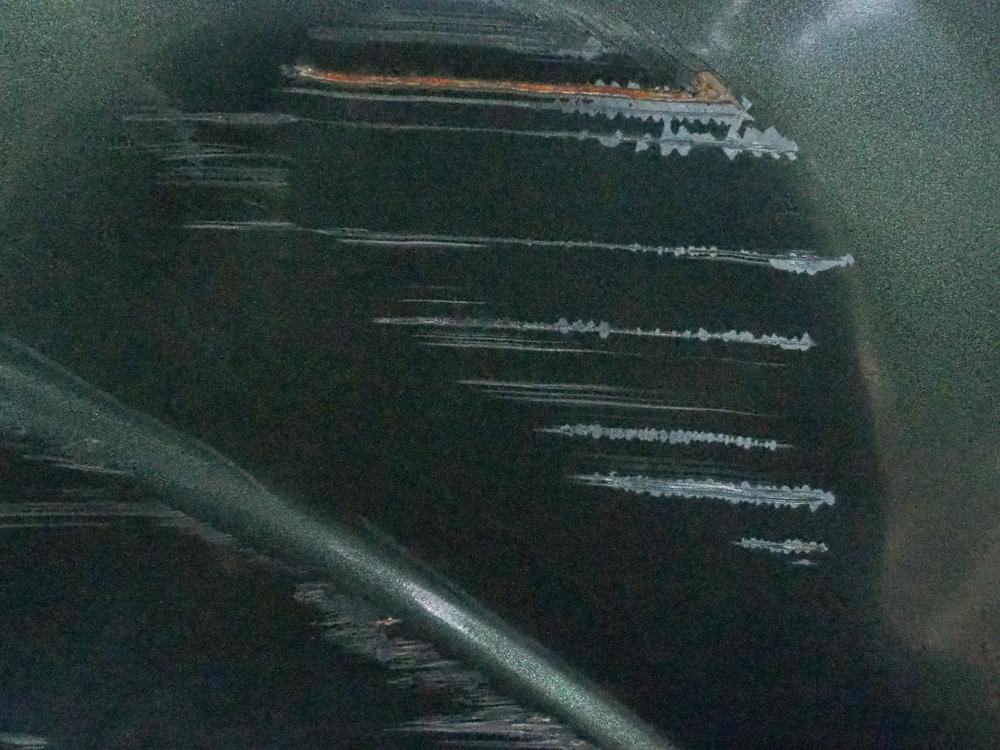scratch: (125, 0, 880, 579), (0, 390, 602, 750)
